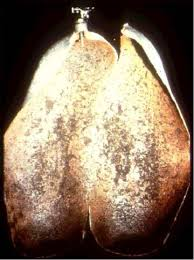rust: (8, 160, 191, 251), (25, 98, 87, 202), (98, 98, 140, 189)
